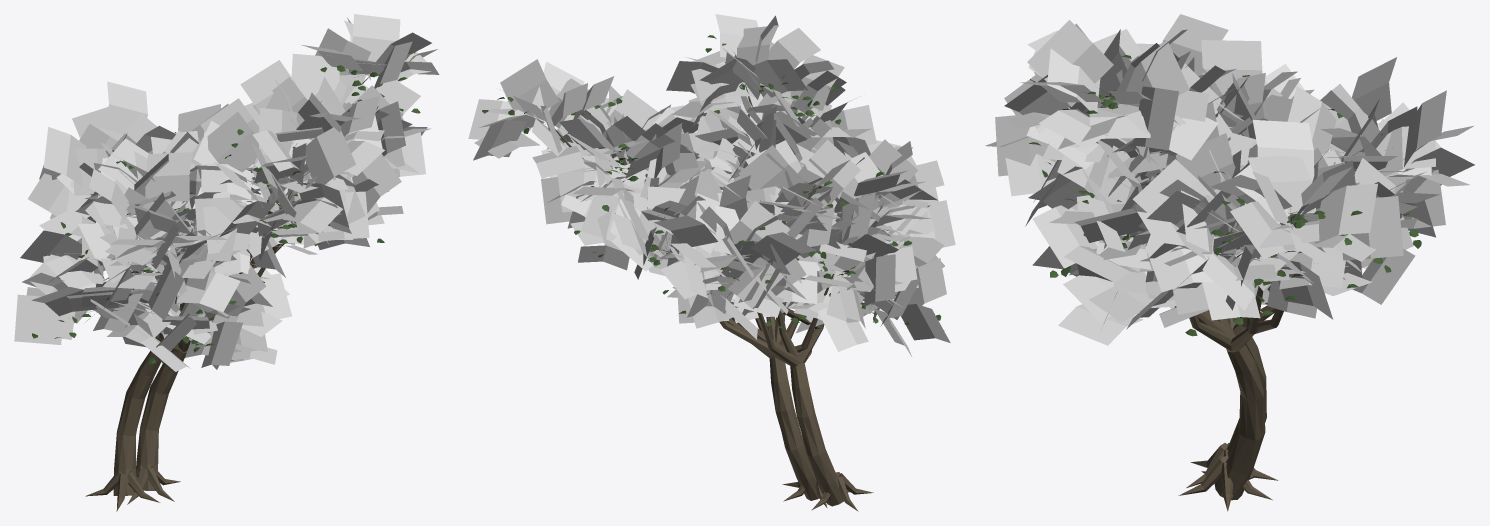
The model's file is CheneVert_Incline_LOD1.fbx.
3 renders of one model, left to right at view 1: azimuth 30°, elevation 25°; view 2: azimuth 150°, elevation 25°; view 3: azimuth 270°, elevation 25°, orthographic. The views are drawn at different scales.
Parts seen in each view (by area): view 1: CheneVert_Incline_LOD1; view 2: CheneVert_Incline_LOD1; view 3: CheneVert_Incline_LOD1.
Boxes of the visible parts, x1,y1,x2,y2 form: CheneVert_Incline_LOD1: (14, 14, 439, 511); CheneVert_Incline_LOD1: (468, 14, 955, 511); CheneVert_Incline_LOD1: (985, 14, 1474, 511).
Size of the model in its own units: 848 by 755 by 621.
